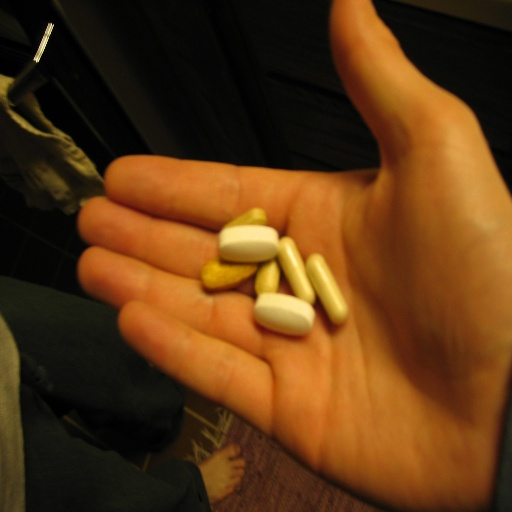hand: (77, 0, 511, 511)
